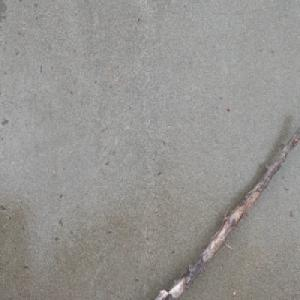Wood: (150, 119, 300, 300)
